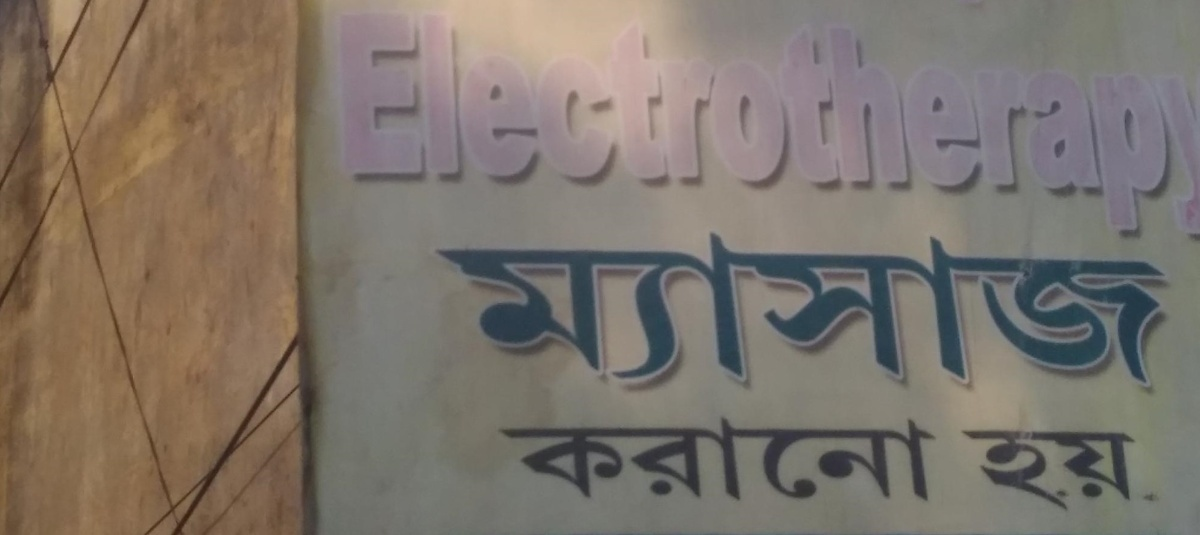text: (353, 16, 368, 238), (369, 16, 384, 238), (385, 16, 400, 238), (401, 16, 416, 238), (417, 16, 432, 238), (433, 16, 448, 238), (449, 16, 464, 238), (465, 16, 480, 238), (481, 16, 496, 238), (497, 16, 512, 238), (513, 16, 528, 238), (529, 16, 544, 238), (545, 16, 560, 238), (561, 16, 576, 238), (577, 16, 592, 238), (593, 16, 608, 238), (609, 16, 624, 238), (625, 16, 640, 238), (641, 16, 656, 238), (657, 16, 672, 238), (673, 16, 688, 238), (689, 16, 704, 238), (705, 16, 720, 238), (721, 16, 736, 238), (737, 16, 752, 238), (753, 16, 768, 238), (769, 16, 784, 238), (785, 16, 800, 238), (801, 16, 816, 238), (817, 16, 832, 238), (833, 16, 848, 238), (849, 16, 864, 238), (865, 16, 880, 238), (881, 16, 896, 238), (897, 16, 912, 238), (913, 16, 928, 238), (929, 16, 944, 238), (945, 16, 960, 238), (961, 16, 976, 238), (977, 16, 992, 238), (993, 16, 1008, 238), (1009, 16, 1024, 238), (1025, 16, 1040, 238), (1041, 16, 1056, 238), (1057, 16, 1072, 238), (1073, 16, 1088, 238), (1089, 16, 1104, 238), (1105, 16, 1120, 238), (1121, 16, 1136, 238), (1137, 16, 1152, 238), (1153, 16, 1168, 238), (1169, 16, 1184, 238), (449, 223, 464, 409), (465, 223, 480, 409), (481, 223, 496, 409), (497, 223, 512, 409), (513, 223, 528, 409), (529, 223, 544, 409), (545, 223, 560, 409), (561, 223, 576, 409), (577, 223, 592, 409), (593, 223, 608, 409), (609, 223, 624, 409), (625, 223, 640, 409), (641, 223, 656, 409), (657, 223, 672, 409), (673, 223, 688, 409), (689, 223, 704, 409), (705, 223, 720, 409), (721, 223, 736, 409), (737, 223, 752, 409), (753, 223, 768, 409), (769, 223, 784, 409), (785, 223, 800, 409), (801, 223, 816, 409), (817, 223, 832, 409), (833, 223, 848, 409), (849, 223, 864, 409), (865, 223, 880, 409), (881, 223, 896, 409), (897, 223, 912, 409), (913, 223, 928, 409), (929, 223, 944, 409), (945, 223, 960, 409), (961, 223, 976, 409), (977, 223, 992, 409), (993, 223, 1008, 409), (1009, 223, 1024, 409), (1025, 223, 1040, 409), (1041, 223, 1056, 409), (1057, 223, 1072, 409), (1073, 223, 1088, 409), (1089, 223, 1104, 409), (1105, 223, 1120, 409), (1121, 223, 1136, 409), (1137, 223, 1152, 409), (1153, 223, 1168, 409), (1185, 16, 1197, 238), (434, 223, 448, 409), (342, 16, 352, 238), (1169, 223, 1179, 409), (513, 412, 528, 507), (529, 412, 544, 507), (545, 412, 560, 507), (561, 412, 576, 507), (577, 412, 592, 507), (593, 412, 608, 507), (609, 412, 624, 507), (625, 412, 640, 507), (641, 412, 656, 507), (657, 412, 672, 507), (673, 412, 688, 507), (689, 412, 704, 507), (705, 412, 720, 507), (721, 412, 736, 507), (737, 412, 752, 507), (753, 412, 768, 507), (769, 412, 784, 507), (785, 412, 800, 507), (801, 412, 816, 507), (817, 412, 832, 507), (833, 412, 848, 507), (849, 412, 864, 507), (865, 412, 880, 507), (881, 412, 896, 507), (897, 412, 912, 507), (913, 412, 928, 507), (961, 422, 976, 516), (977, 422, 992, 516), (993, 422, 1008, 516), (1009, 422, 1024, 516), (1025, 422, 1040, 516), (1041, 422, 1056, 516), (1057, 422, 1072, 516), (1073, 422, 1088, 516), (1089, 422, 1104, 516), (1105, 422, 1120, 516), (1121, 422, 1136, 516), (929, 412, 942, 507), (500, 412, 512, 507), (956, 422, 960, 516), (1137, 422, 1141, 516)
